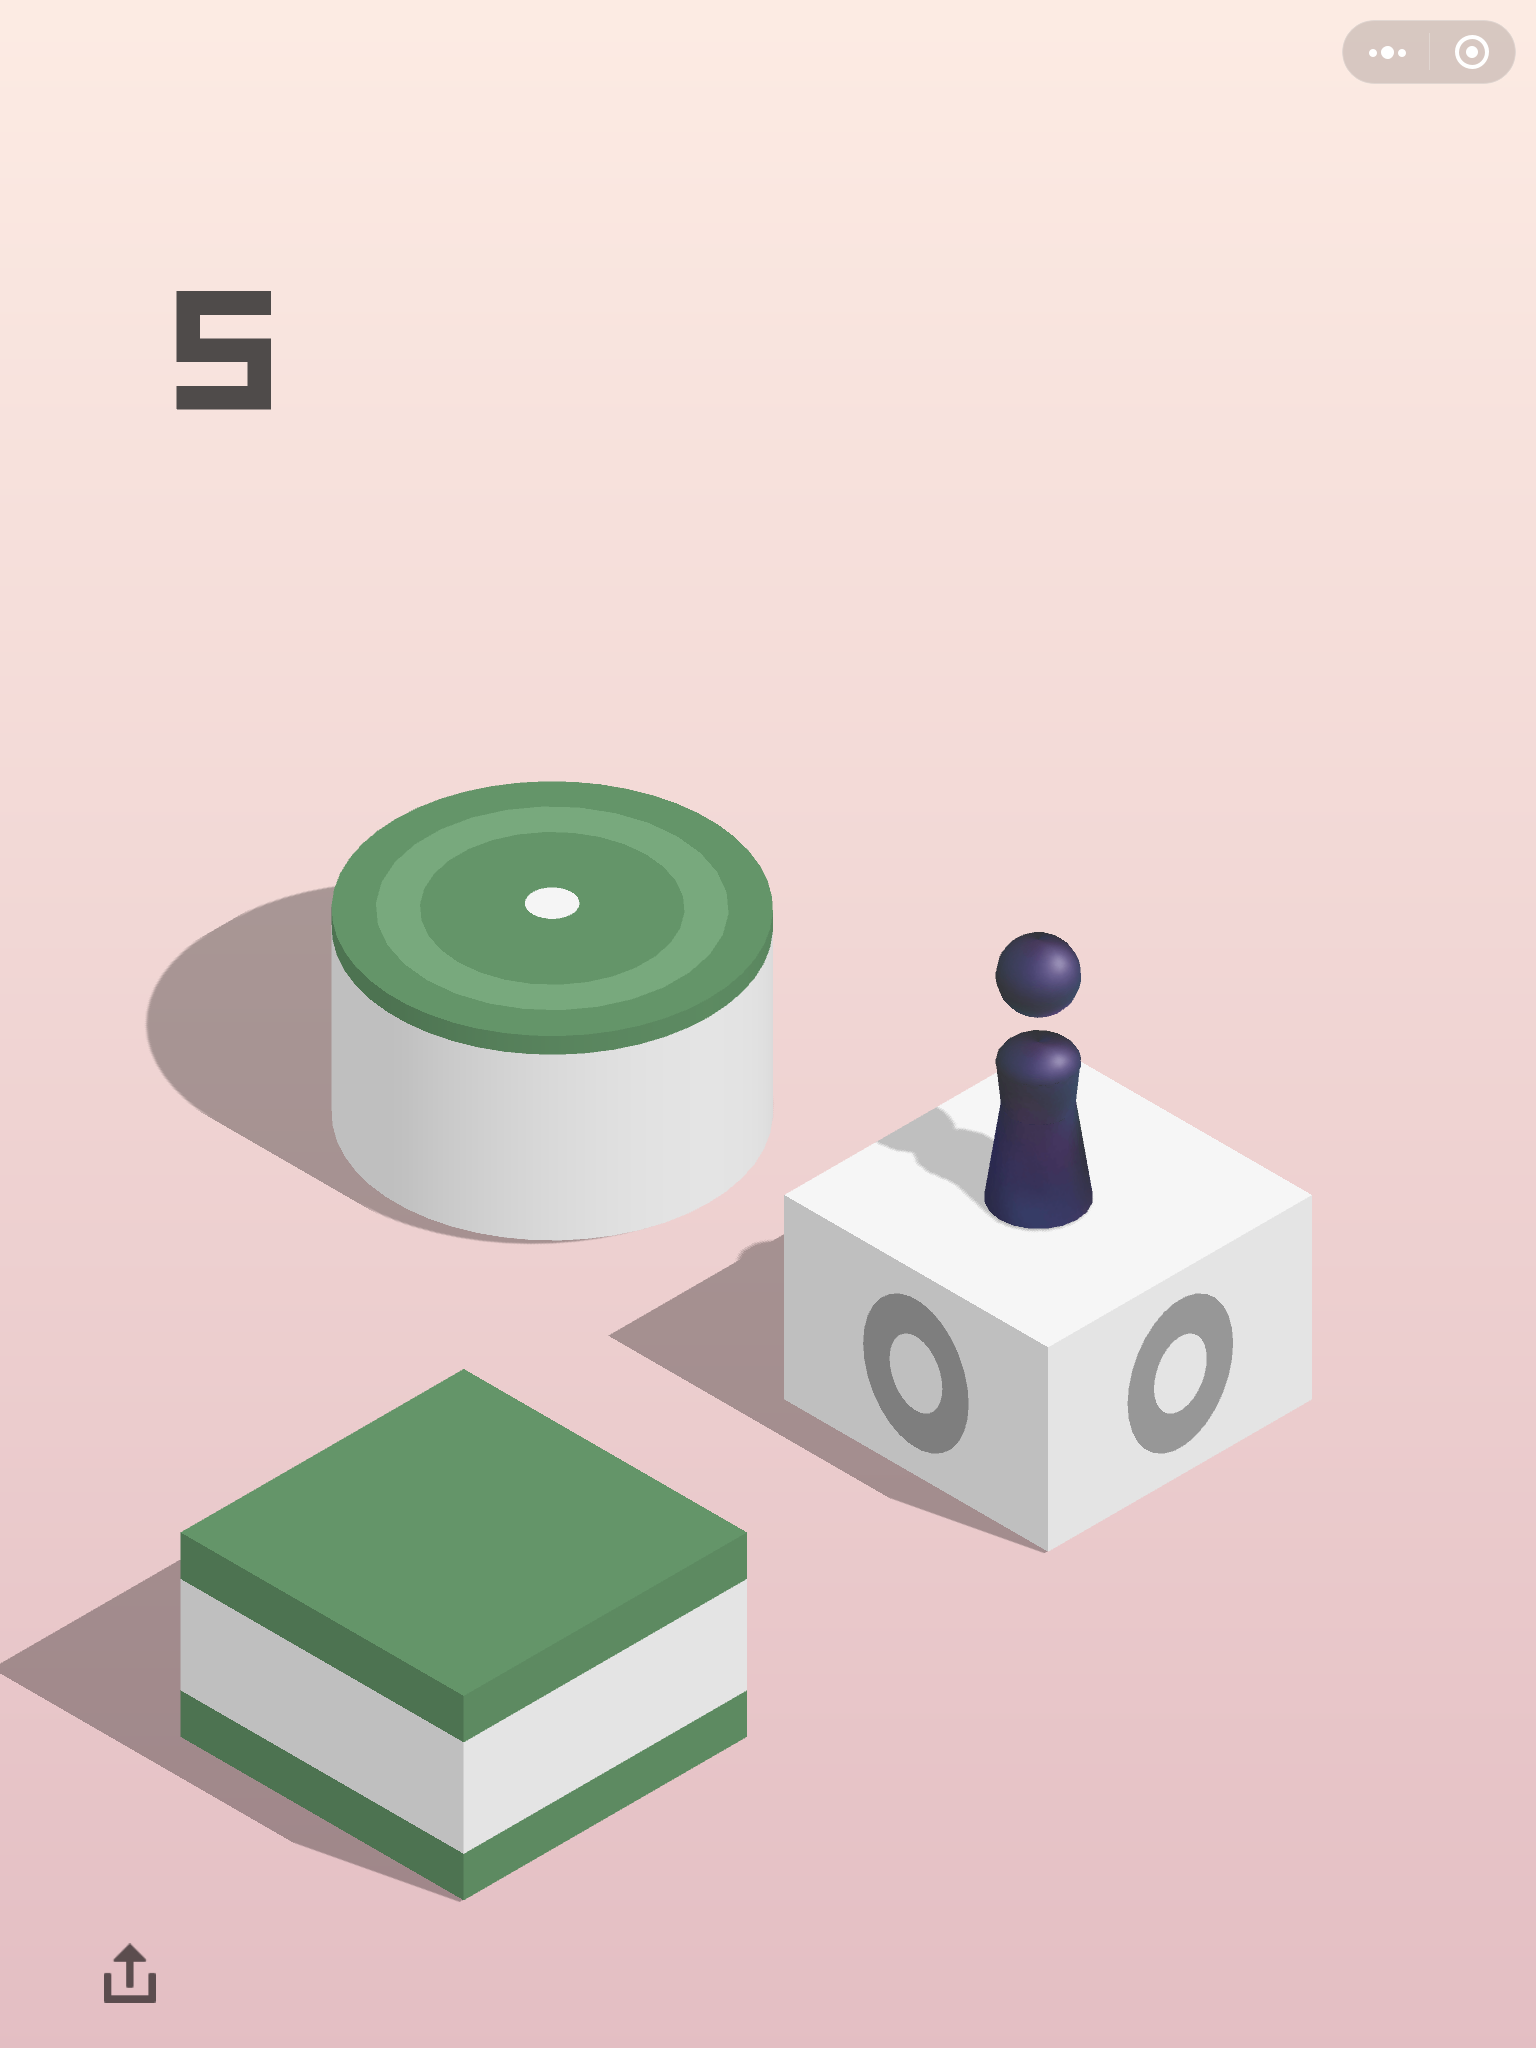c: (323, 772, 783, 1251)
f: (173, 1363, 757, 1908), (779, 1047, 1326, 1556)
r: (981, 926, 1099, 1235)
